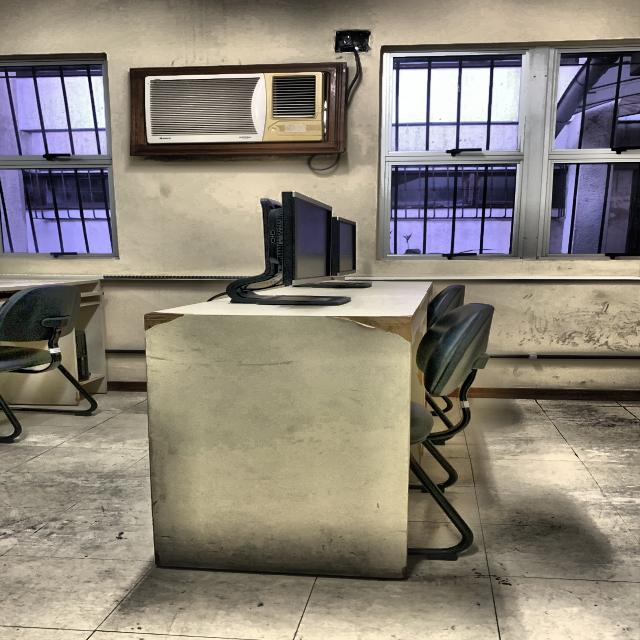cadeira: (411, 304, 493, 562), (0, 283, 107, 443)
